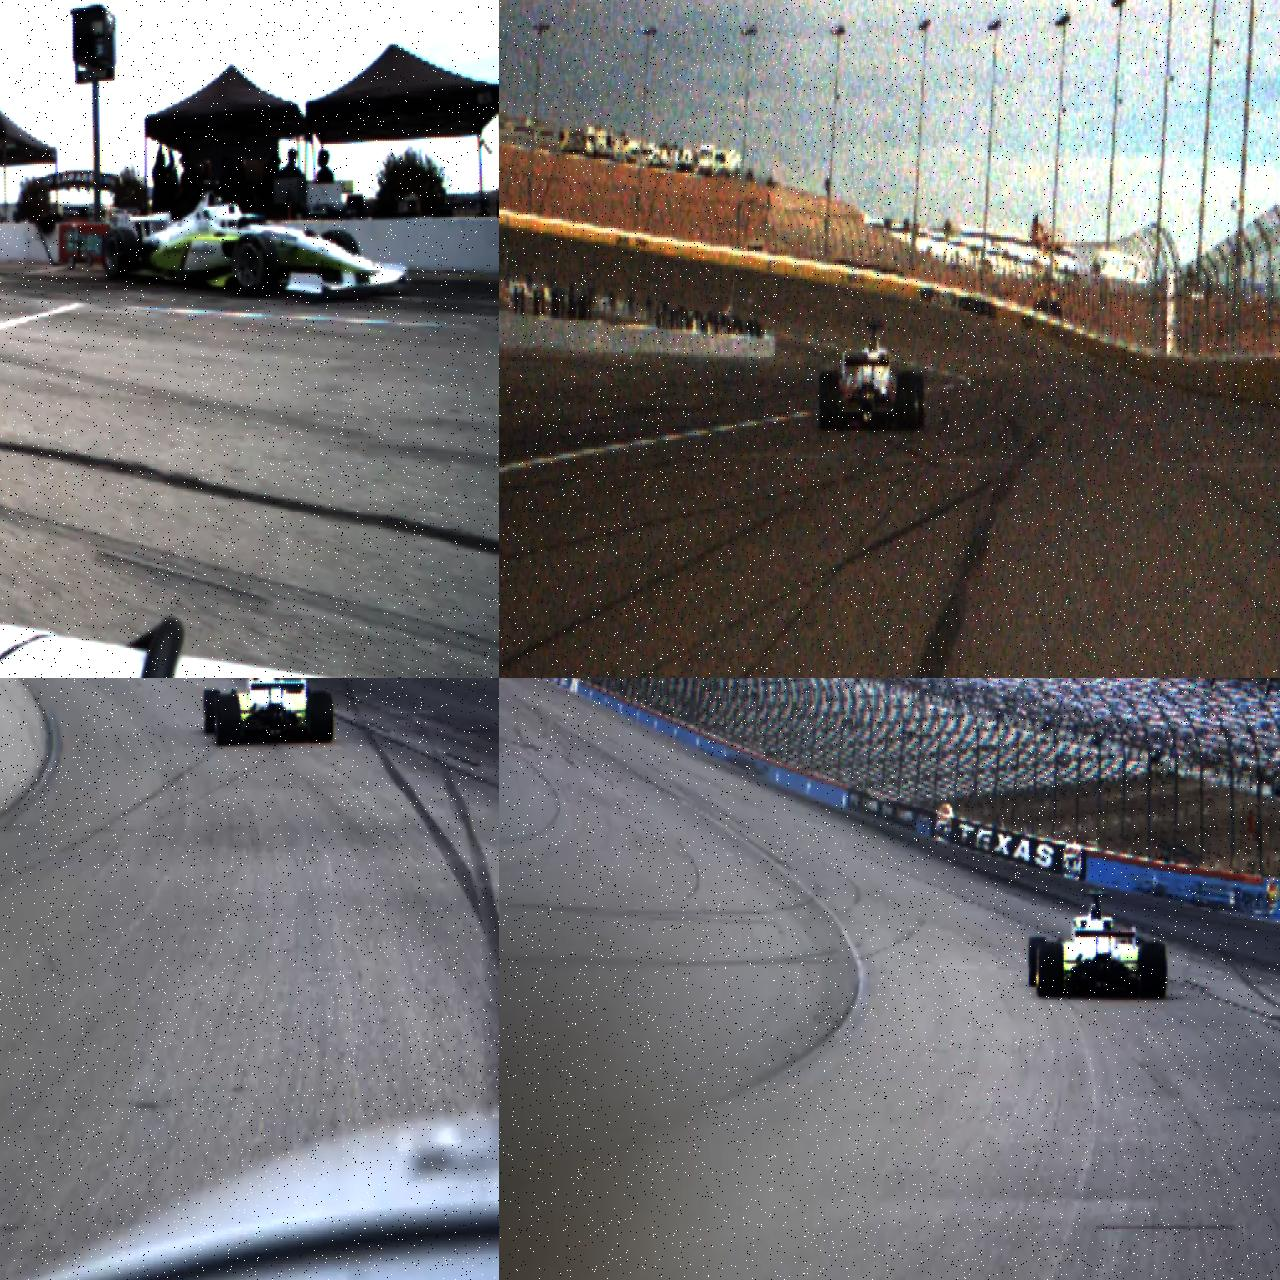AV: (100, 182, 410, 300), (1028, 891, 1166, 999), (818, 320, 926, 431), (203, 678, 333, 747)
Wheel: (233, 232, 279, 299), (101, 227, 139, 282), (321, 229, 359, 284), (1141, 941, 1167, 998), (1037, 942, 1063, 998), (309, 690, 334, 744), (216, 695, 241, 745), (819, 372, 839, 431), (897, 372, 917, 431), (1028, 937, 1047, 987), (204, 689, 220, 735), (914, 374, 925, 428)
